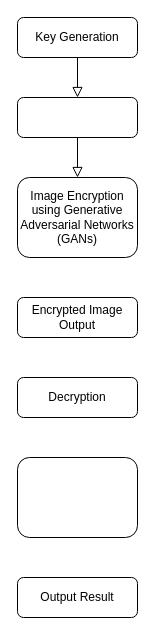
Image size: 155x635. Some labels were removed from this diagram. The centre of each missing label's shape, as x and y in pixels:
Input Image: [77,117]
Tampering Detection using Generative Adversarial Networks (GANs): [77,497]
